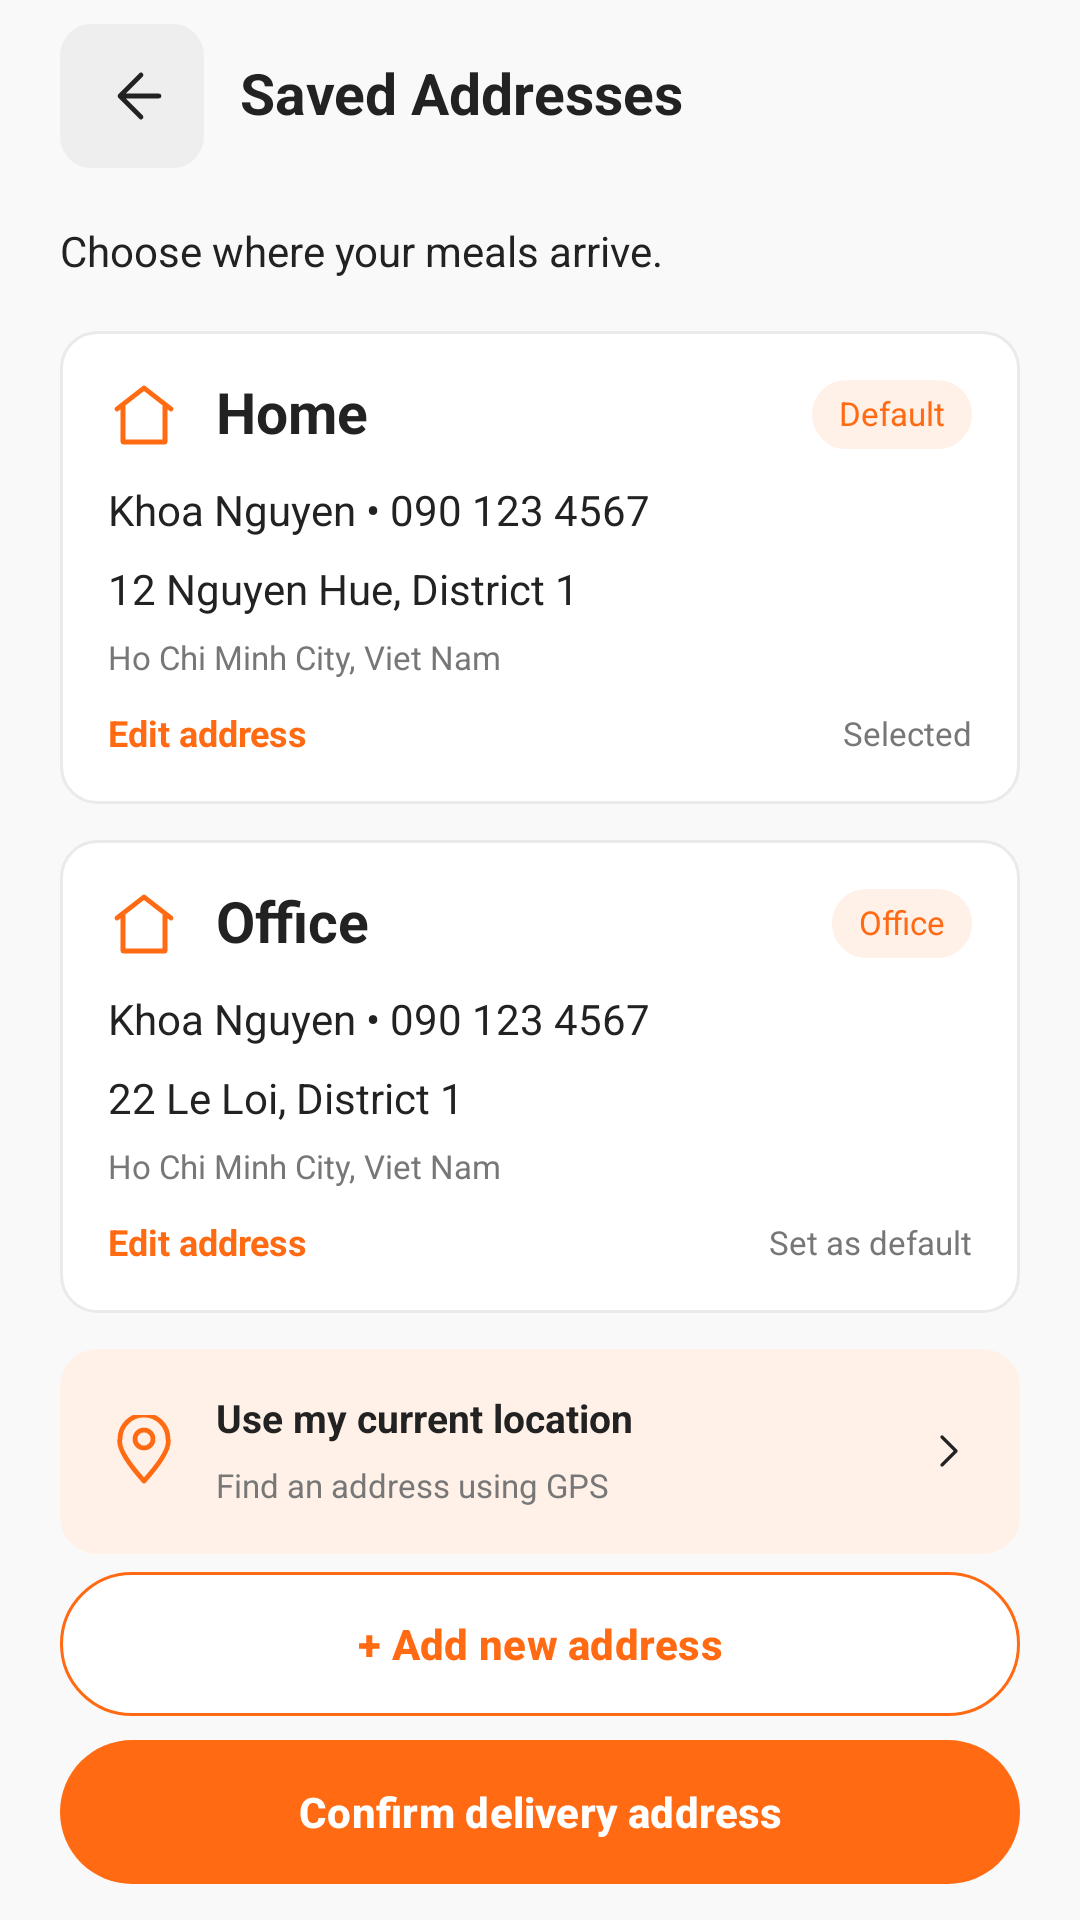

Icon bounding boxes for this 1080×1920 phone screenshot, format bbox=(x1, y1, x2, y2):
Back: bbox=(60, 24, 204, 168)
tv chevron: bbox=(940, 1435, 958, 1467)
tv pin: bbox=(117, 1415, 171, 1484)
